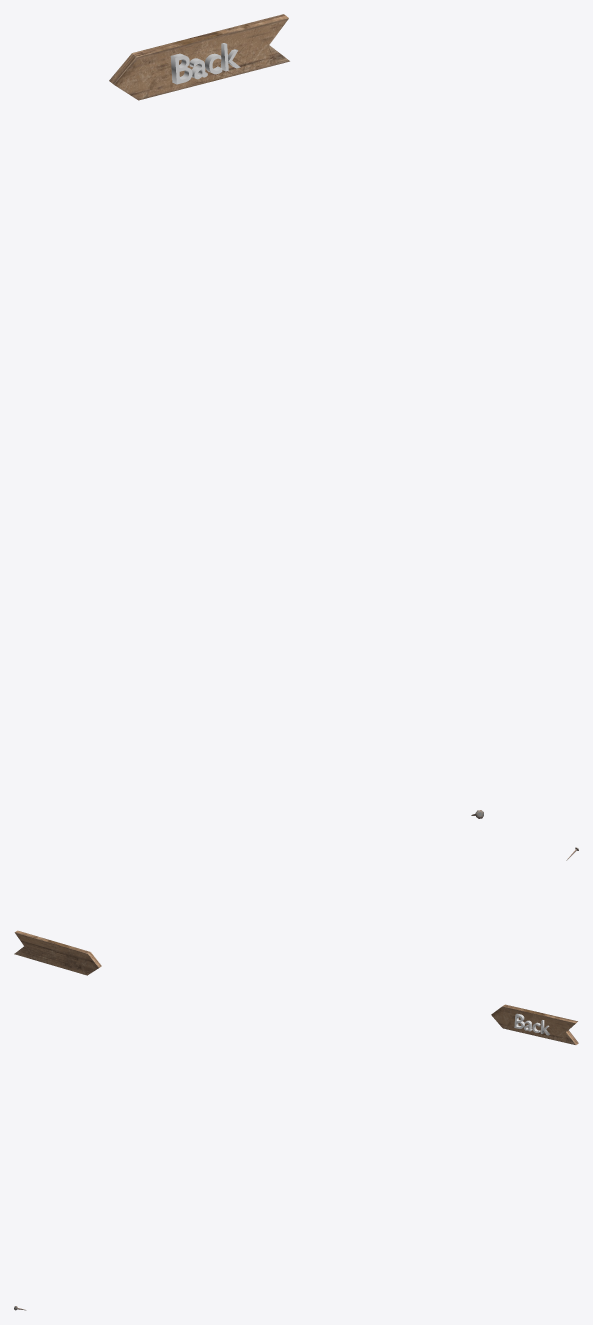
The model's file is sign3_back.glb.
3 renders of one model, top to bottom at view 1: azimuth 30°, elevation 25°; view 2: azimuth 150°, elevation 25°; view 3: azimuth 330°, elevation 25°, orthographic. The views are drawn at different scales.
Parts seen in each view (by area): view 1: defaultMaterial.003, Text.014; view 2: defaultMaterial.003; view 3: defaultMaterial.003.
Boxes of the visible parts, box(x1,y1,x2,y2) form: defaultMaterial.003: box(109, 14, 289, 100); Text.014: box(170, 43, 240, 84); defaultMaterial.003: box(14, 930, 101, 975); defaultMaterial.003: box(491, 1004, 578, 1044).
Size of the model in its own units: 2.9 by 1.28 by 7.11.
Materials: 2 (2 with a texture image).
